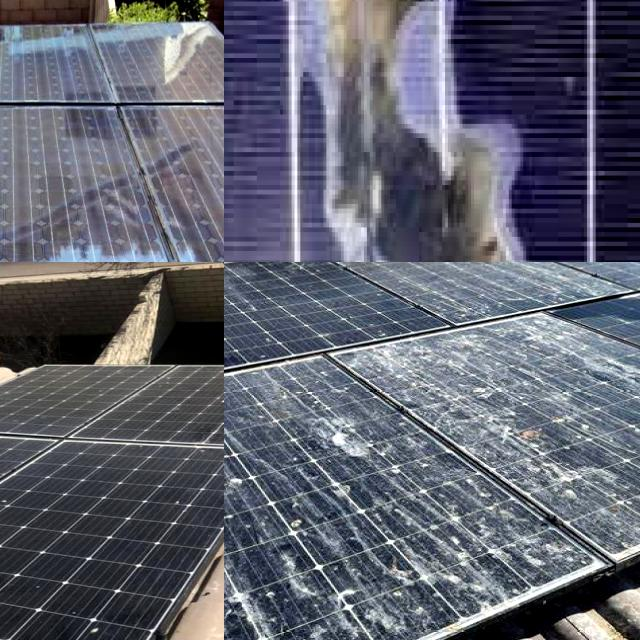bird: (241, 544, 352, 640), (381, 524, 498, 596), (412, 381, 534, 438), (292, 410, 383, 466), (618, 377, 640, 427)
dust: (0, 111, 129, 262), (0, 31, 143, 99), (58, 608, 156, 640)
shadow: (274, 0, 523, 262)
